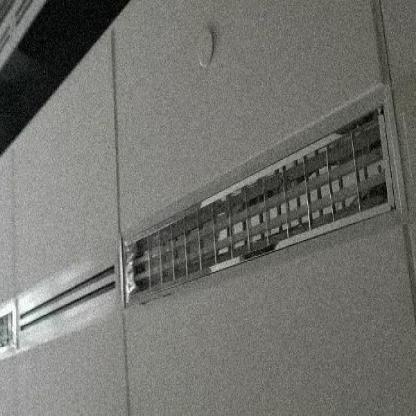light_off: (121, 66, 396, 325), (0, 281, 31, 381)
